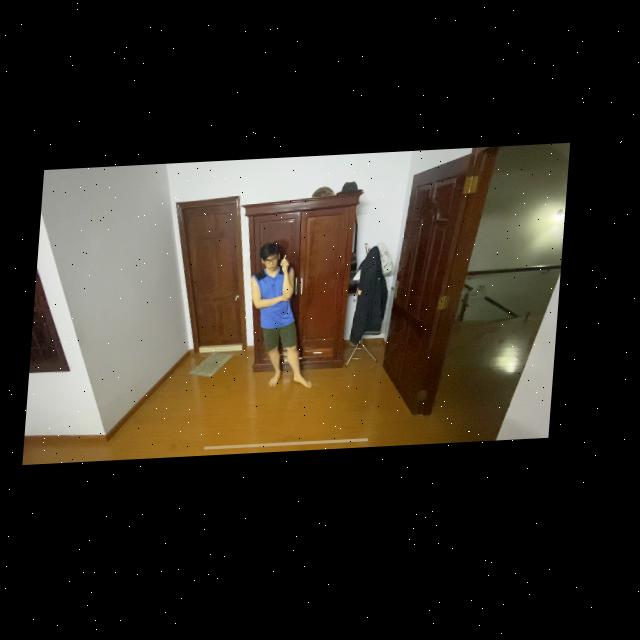cigarette: (288, 257, 291, 262)
